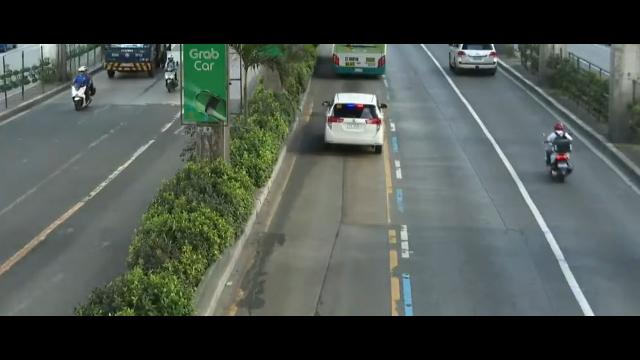bus: (321, 45, 387, 78)
car: (322, 91, 388, 153), (445, 44, 498, 75)
motorcycle: (544, 122, 572, 181), (70, 66, 97, 110), (164, 54, 182, 93)
truck: (104, 44, 170, 84)
